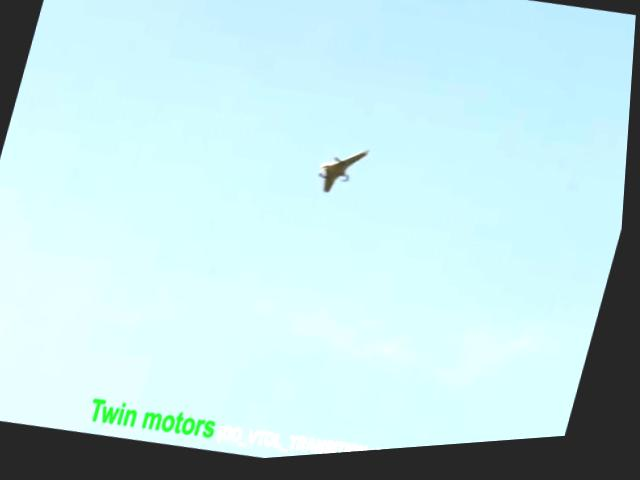plane: (314, 147, 371, 206)
